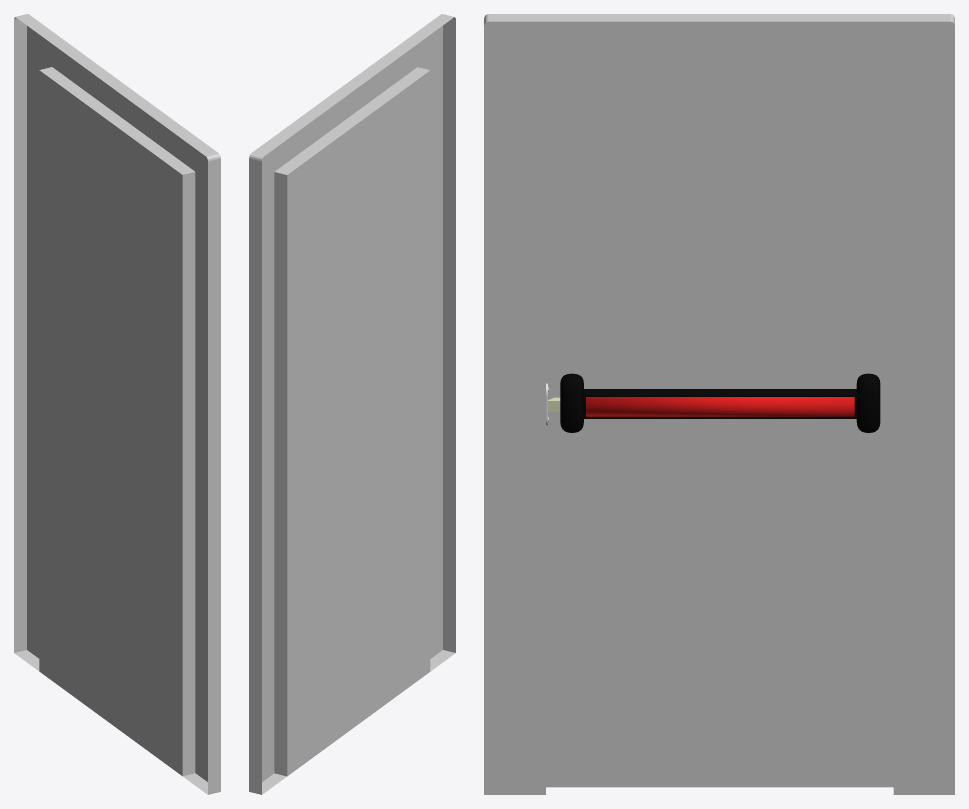
The model's file is Porta.fbx.
The picture shows the model from 3 angles, left to right: view 1: azimuth 30°, elevation 25°; view 2: azimuth 150°, elevation 25°; view 3: azimuth 270°, elevation 25°; orthographic projection. The views are drawn at different scales.
Visible parts, largest first — view 1: Porta, Stipite; view 2: Porta, Stipite; view 3: Porta, Stipite, ManigliaAntipanico, CoperturaManiglia, CoperturaDX, CoperturaSX.
Boxes of the visible parts, x1,y1,x2,y2 form: Porta: (39, 70, 182, 775); Stipite: (14, 14, 220, 794); Porta: (287, 71, 430, 775); Stipite: (249, 14, 455, 794); Porta: (546, 65, 893, 787); Stipite: (484, 14, 954, 794); ManigliaAntipanico: (586, 397, 854, 416); CoperturaManiglia: (583, 389, 857, 418); CoperturaDX: (856, 373, 880, 432); CoperturaSX: (560, 373, 583, 432).
Bounding box in the file's own units: 6.09 × 230 × 127.
